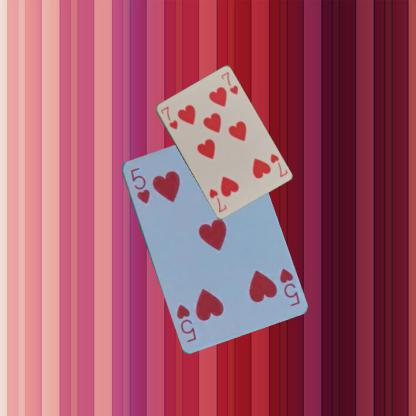5h: (276, 266, 301, 307), (127, 165, 151, 205)
7h: (267, 151, 289, 178), (158, 104, 178, 130)
